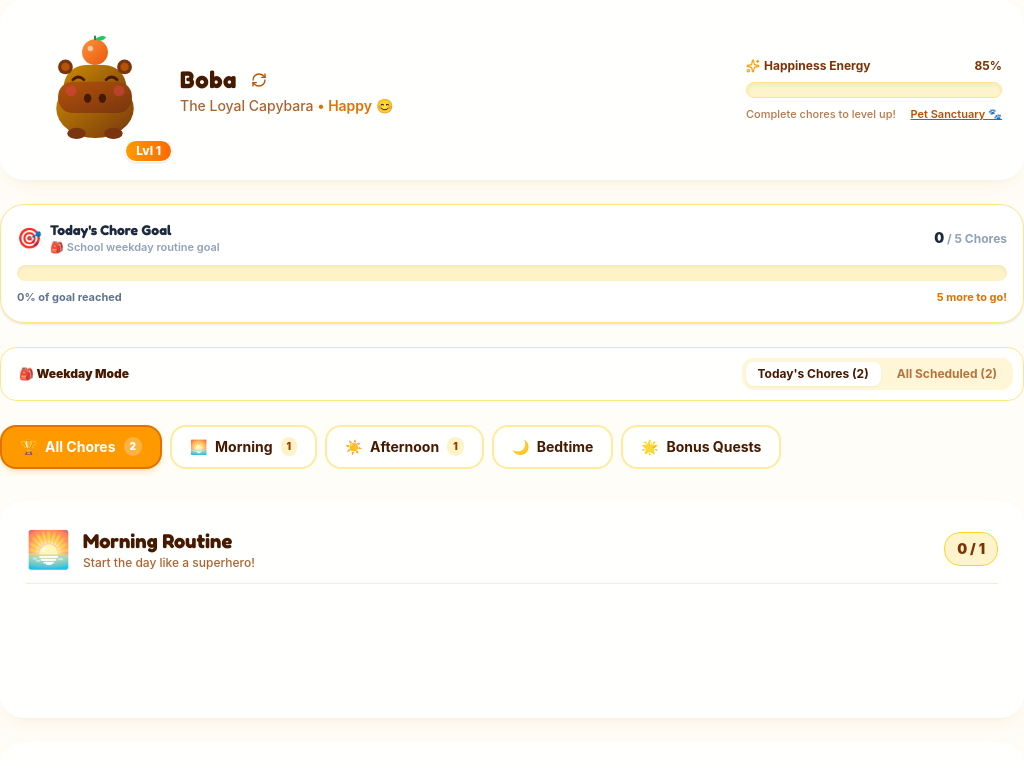
Test case: ChildDashboard Component › filters chores when clicking routine tab
Note: Click Morning tab
Click the button "🌅 Morning 1" at point(244, 446), box [170, 424, 317, 468]
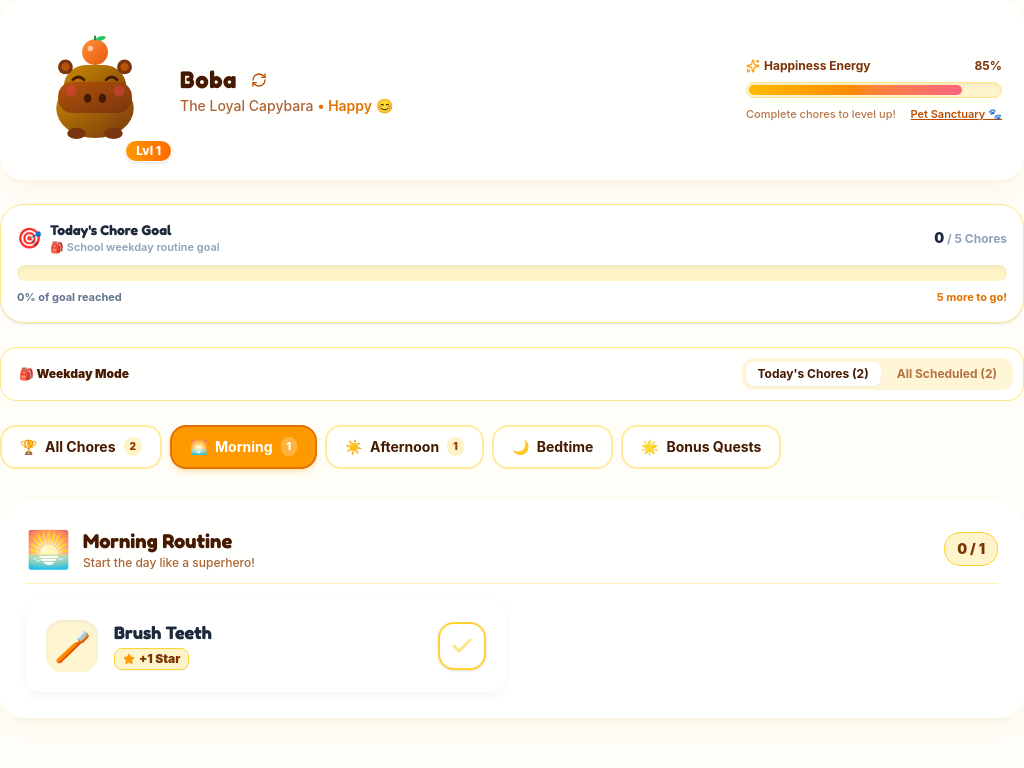
Now the heading "Brush Teeth" is shown, box [114, 621, 212, 643]
